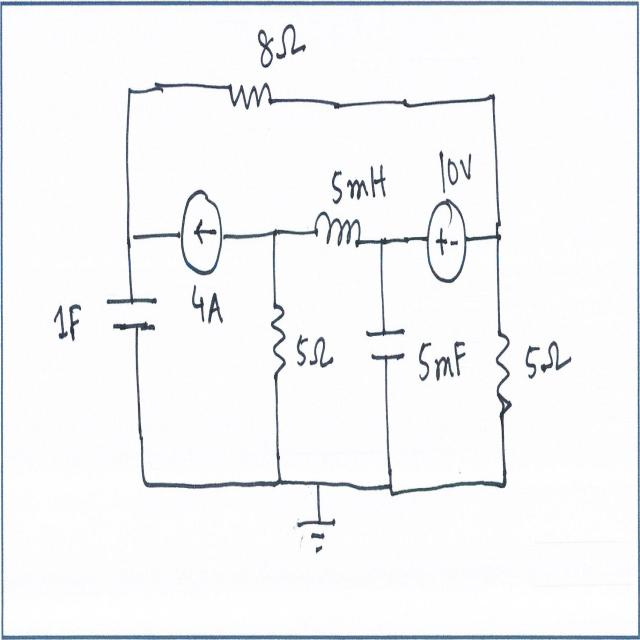capacitor: (102, 284, 160, 343), (362, 317, 410, 375)
current_source: (176, 185, 226, 278)
ground: (296, 516, 339, 560)
inductor: (308, 206, 365, 255)
resistor: (491, 321, 516, 426), (225, 78, 278, 118), (268, 296, 288, 394)
voltage_source: (424, 195, 471, 291)
